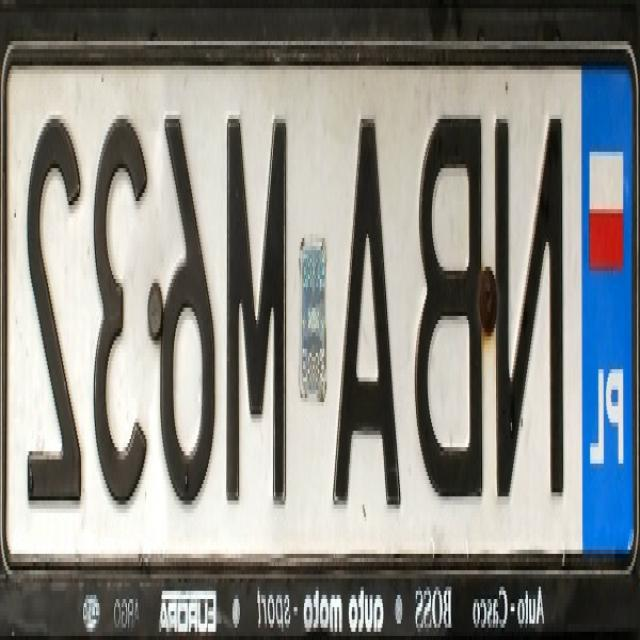pl_license_plate: (7, 57, 634, 558)
